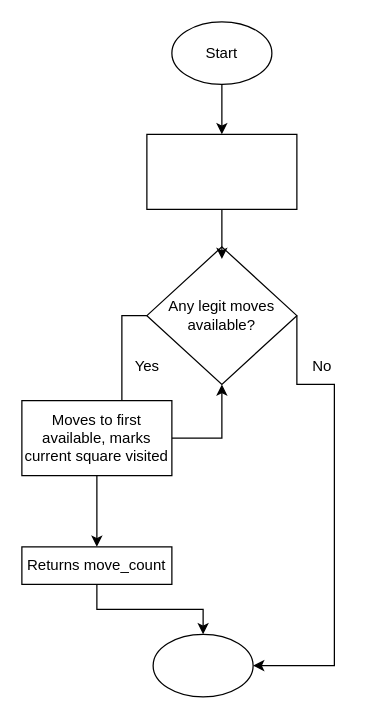
This 369x719 diagram has some shape labels left out. Each missing label, with the box of its shape:
END: (152, 633, 253, 697)
Set all squares = 0 Marks start square: (146, 133, 297, 209)
